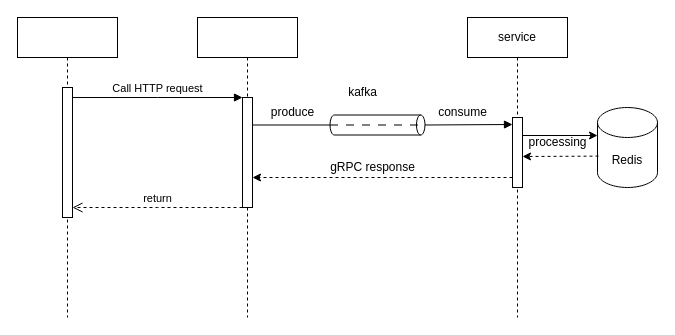
Some shapes in this 675 by 335 pixel diagram are drawn without their labels. Here are the shapes that lost their labels. From the top down, the box of each, then its label:
(16, 16, 118, 318): client
(196, 16, 298, 318): gateway
